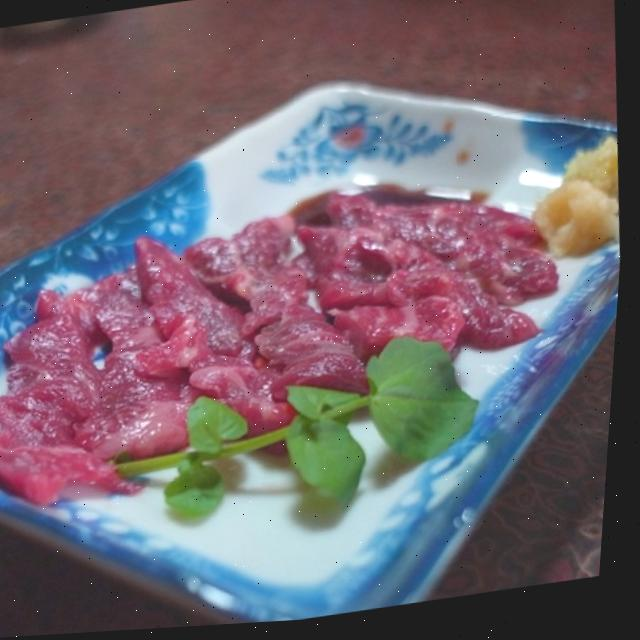刺身生食: (0, 80, 614, 556)
